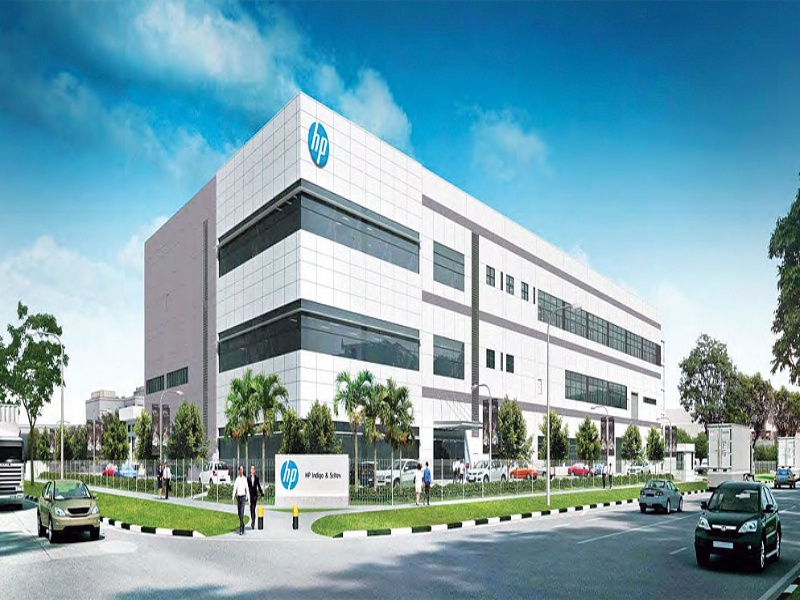hp: (311, 122, 329, 166), (282, 458, 297, 490)
